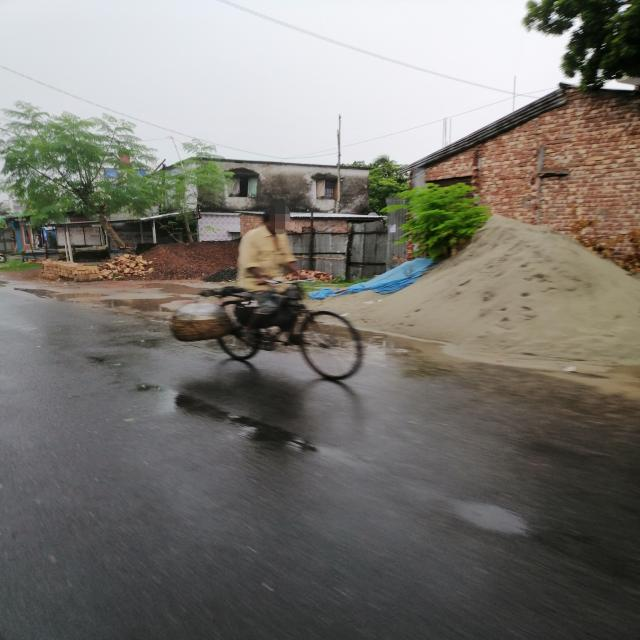Bicycle: (203, 278, 374, 382)
